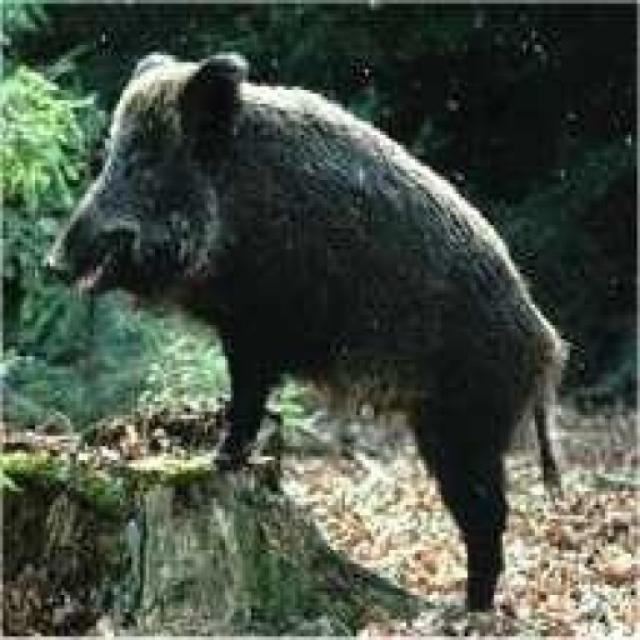pig: (41, 33, 559, 608)
